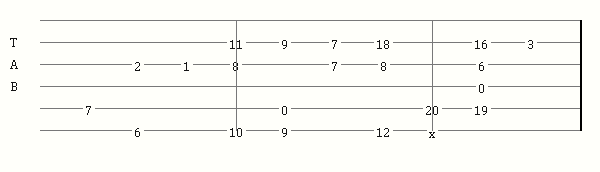0: (281, 102, 292, 115), (478, 80, 489, 93)
1: (183, 58, 194, 71)
10: (229, 124, 247, 137)
11: (229, 36, 247, 49)
12: (376, 124, 394, 137)
16: (474, 36, 492, 49)
18: (376, 36, 394, 49)
19: (474, 102, 492, 115)
2: (134, 58, 145, 71)
20: (425, 102, 443, 115)
3: (527, 36, 538, 49)
6: (134, 124, 145, 137), (478, 58, 489, 71)
7: (85, 102, 96, 115), (331, 36, 342, 49), (331, 58, 342, 71)
8: (232, 58, 243, 71), (380, 58, 391, 71)
9: (281, 124, 292, 137), (281, 36, 292, 49)
x: (429, 125, 439, 135)
